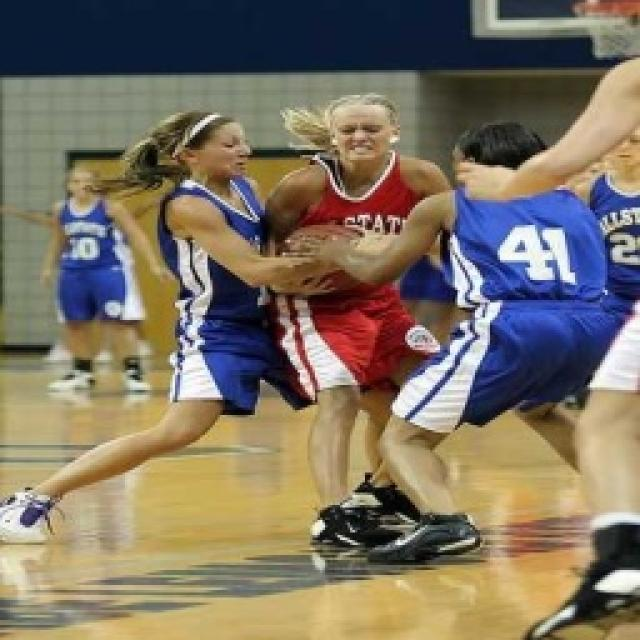rim: (272, 222, 362, 298)
